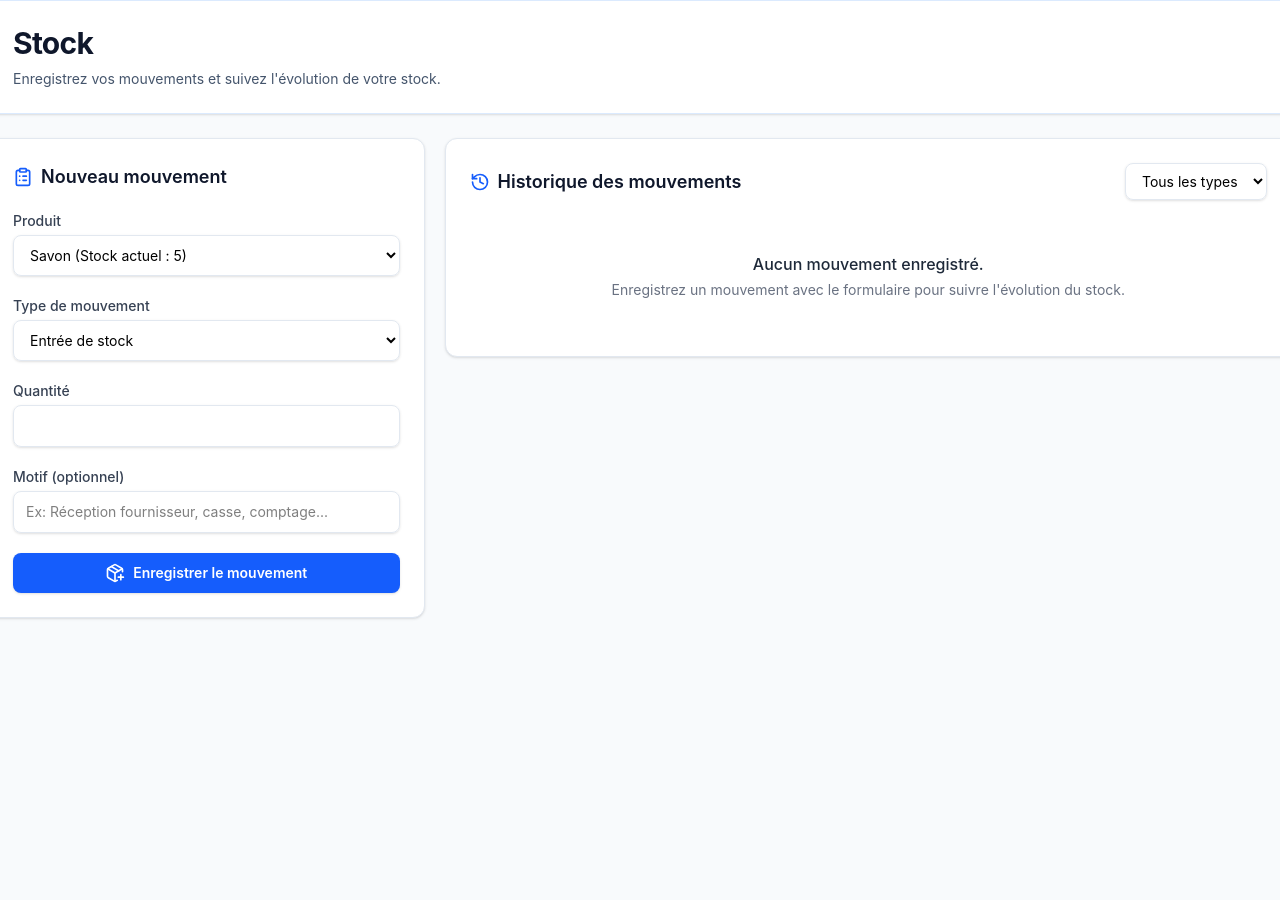
Stock : mouvement refusé après l’expiration › message en haut, sans alert(), saisie conservée, bouton revenu à son état normal
The image size is (1280, 900).
Click the number field at coordinates (206, 426), box x1=13 y1=405 x2=400 y2=447
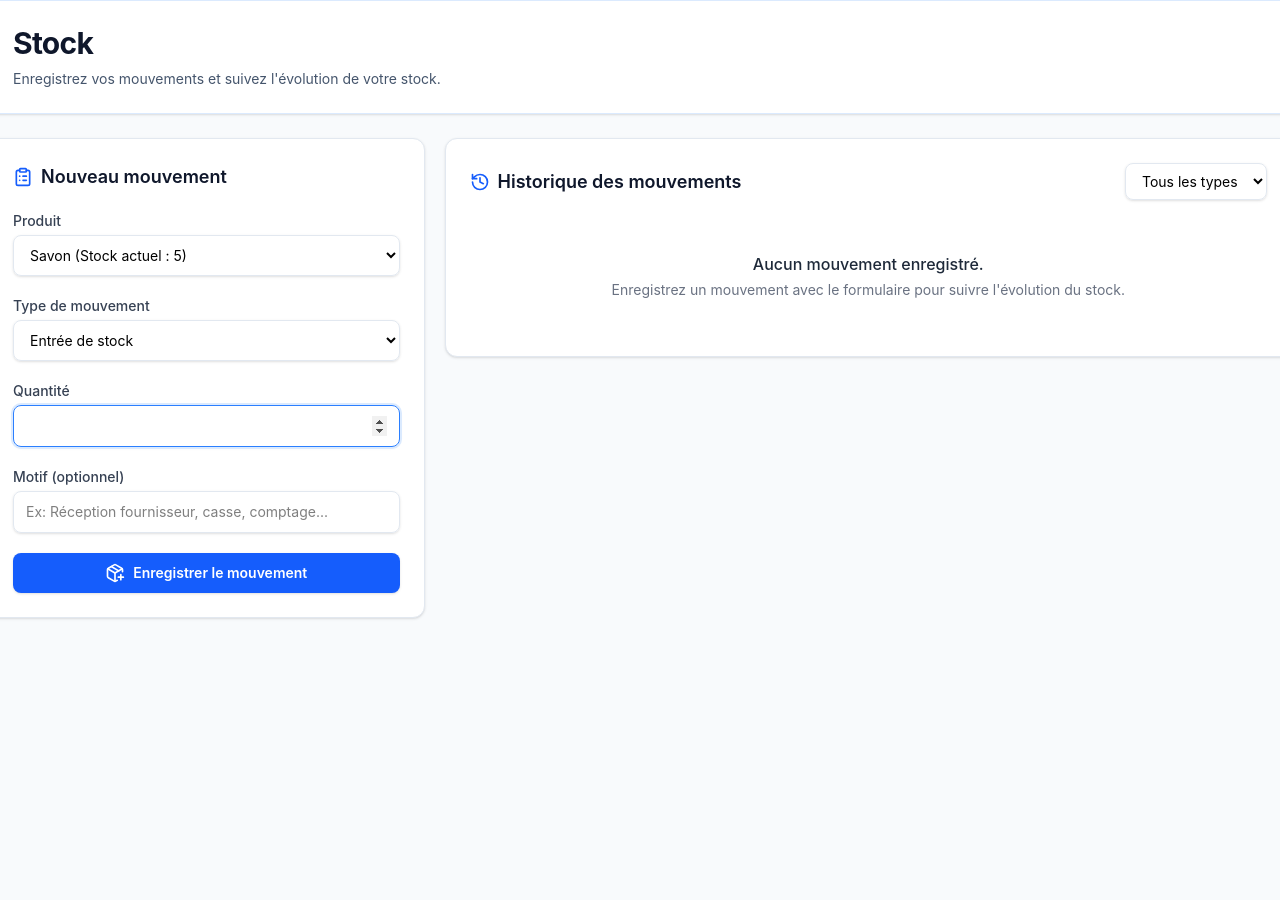
Type keys "12"
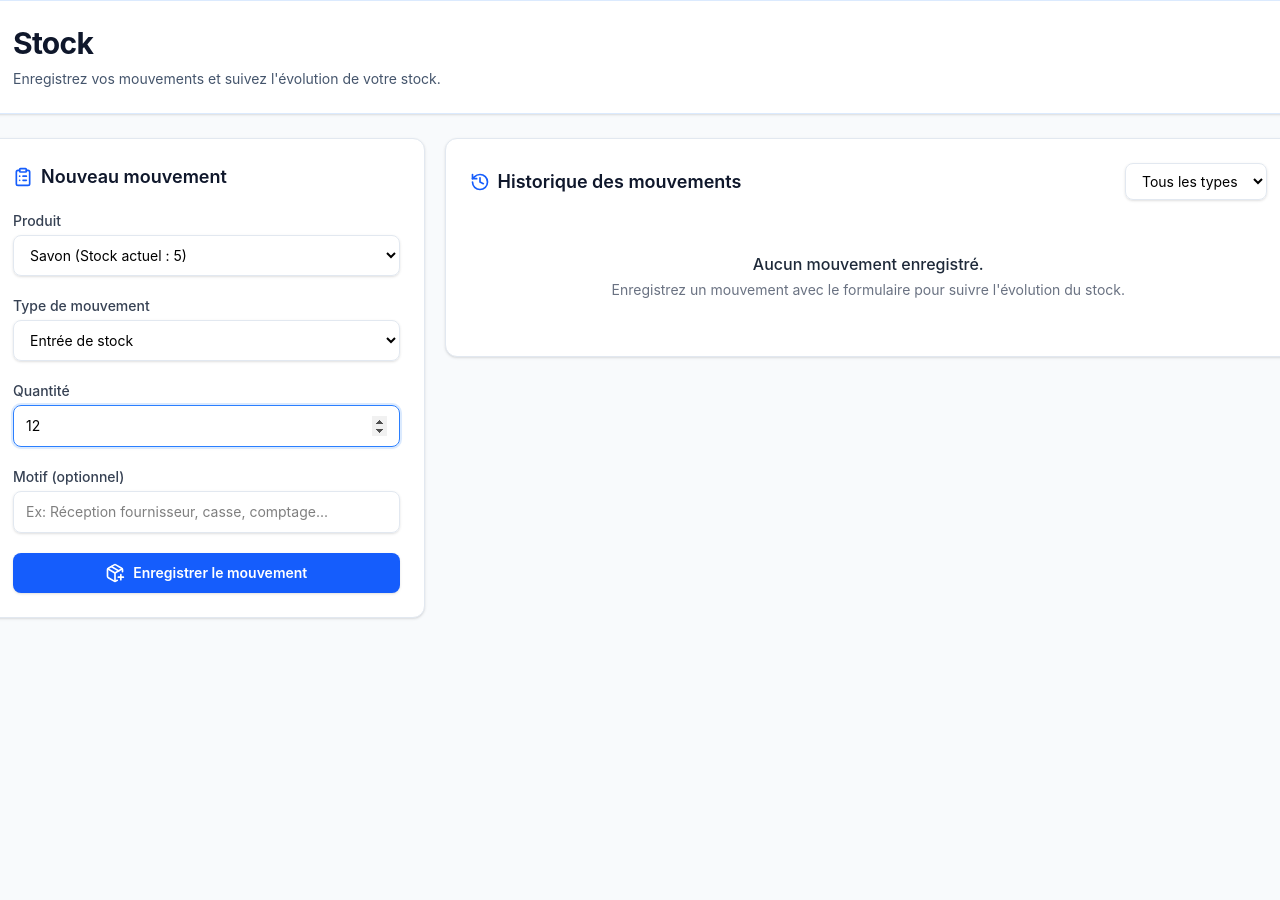
Click the field with placeholder "Ex: Réception fournisseur, casse, comptage..." at coordinates (206, 512), box x1=13 y1=491 x2=400 y2=533
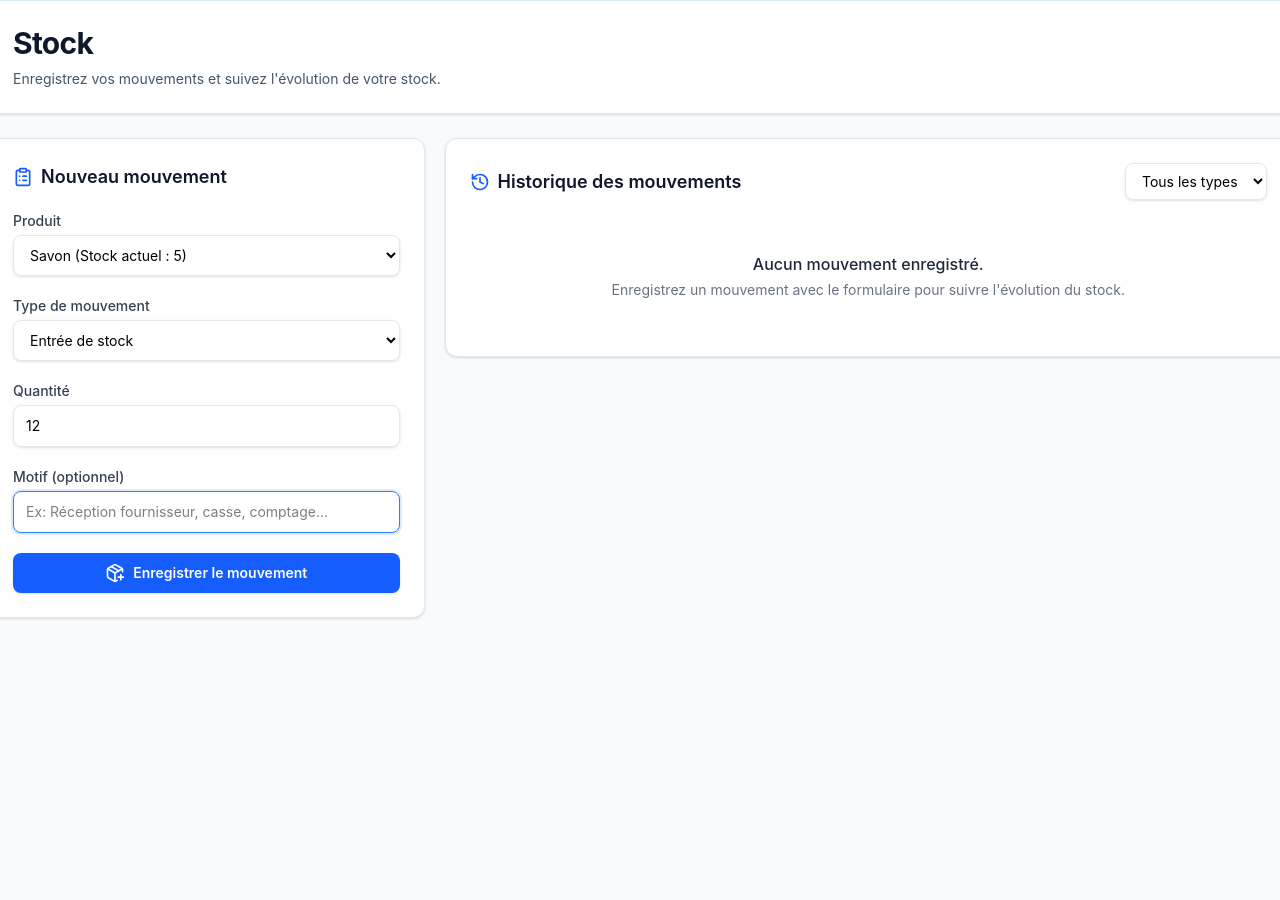
Type keys "Réception"
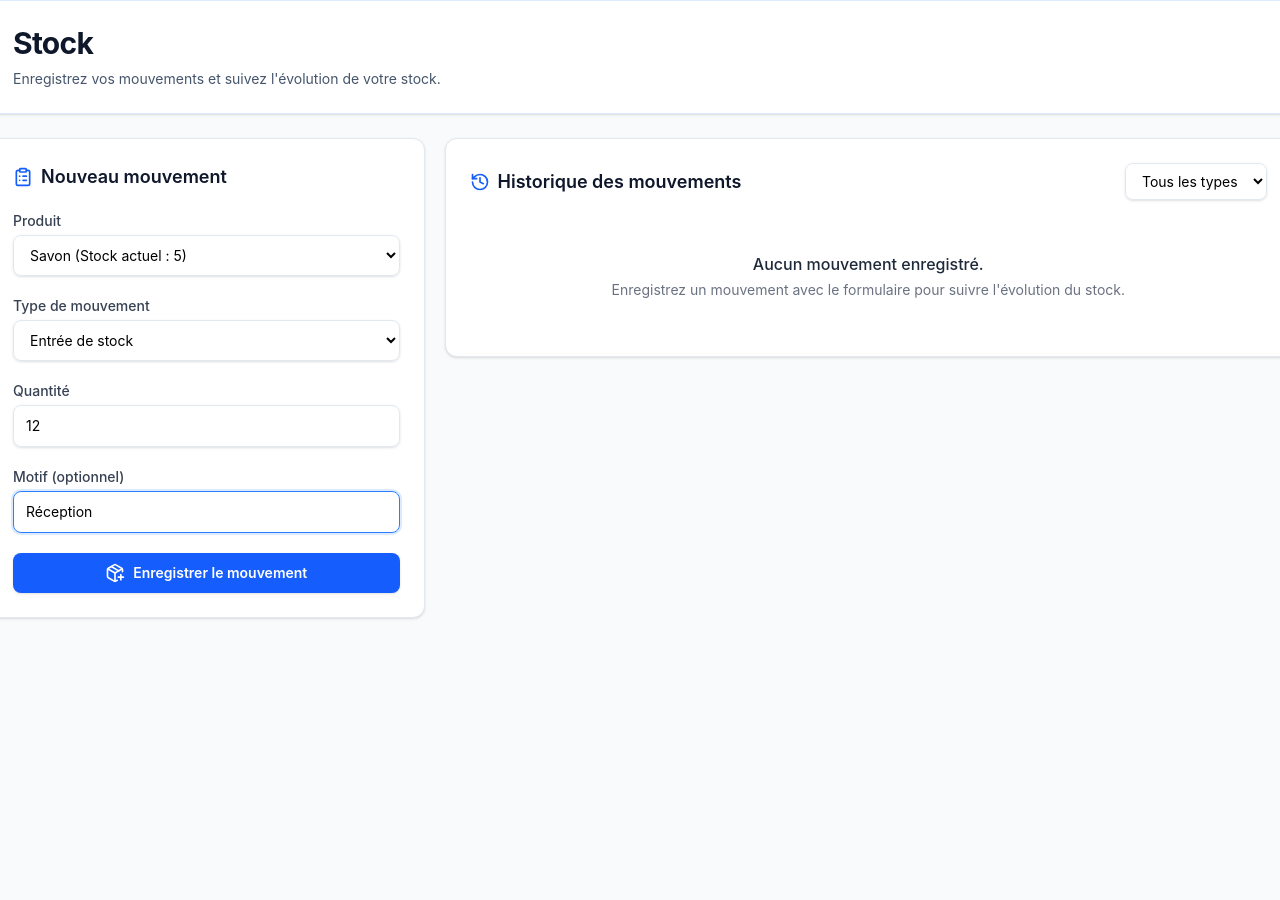
Click the button "Enregistrer le mouvement" at coordinates (206, 573), box x1=13 y1=553 x2=400 y2=593
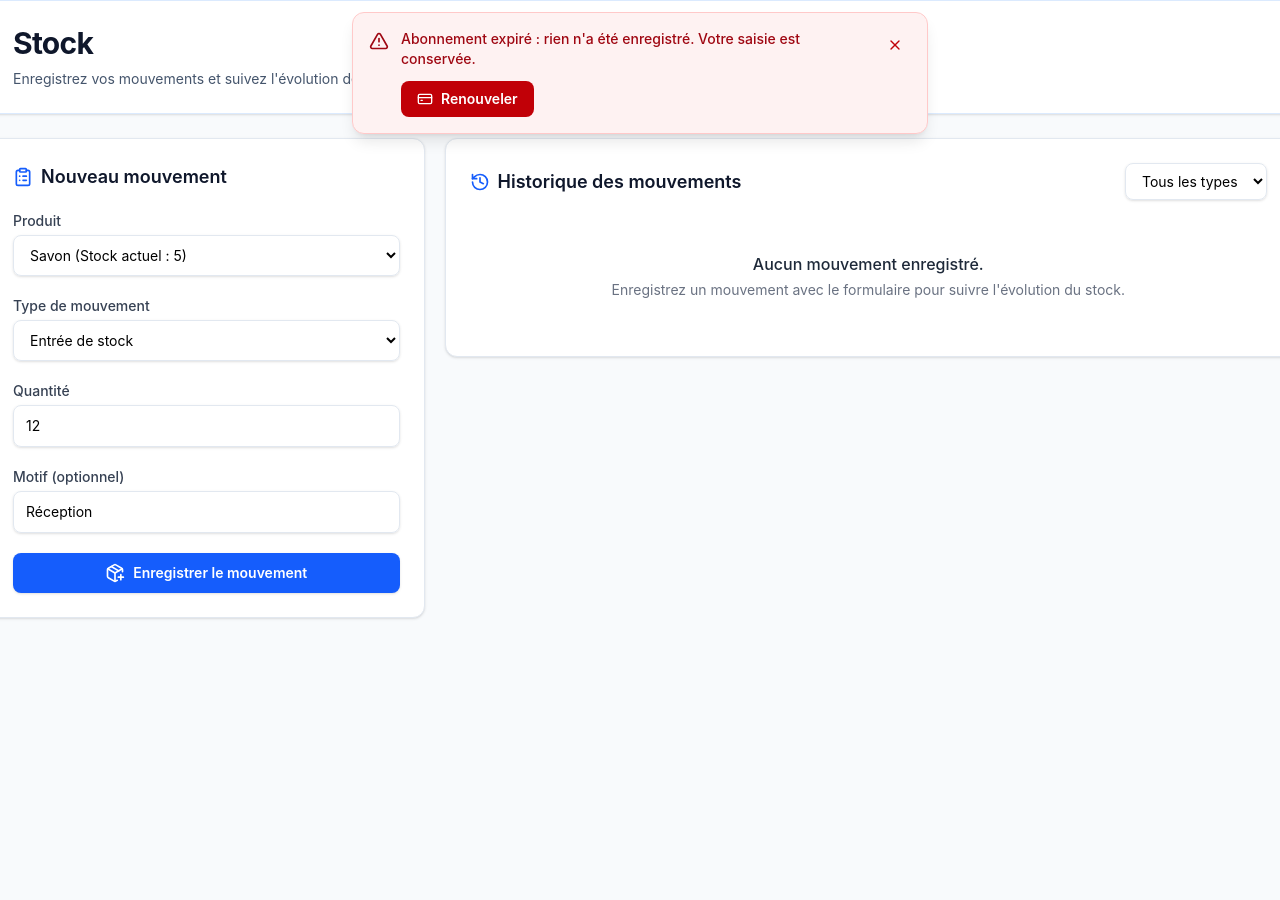
Expected: the number field holds "12", x1=13 y1=405 x2=400 y2=447
Expected: the field with placeholder "Ex: Réception fournisseur, casse, comptage..." holds "Réception", x1=13 y1=491 x2=400 y2=533
Expected: the message shows "Abonnement expiré : rien n'a été enregistré. Votre saisie est conservée.", x1=401 y1=30 x2=800 y2=67
